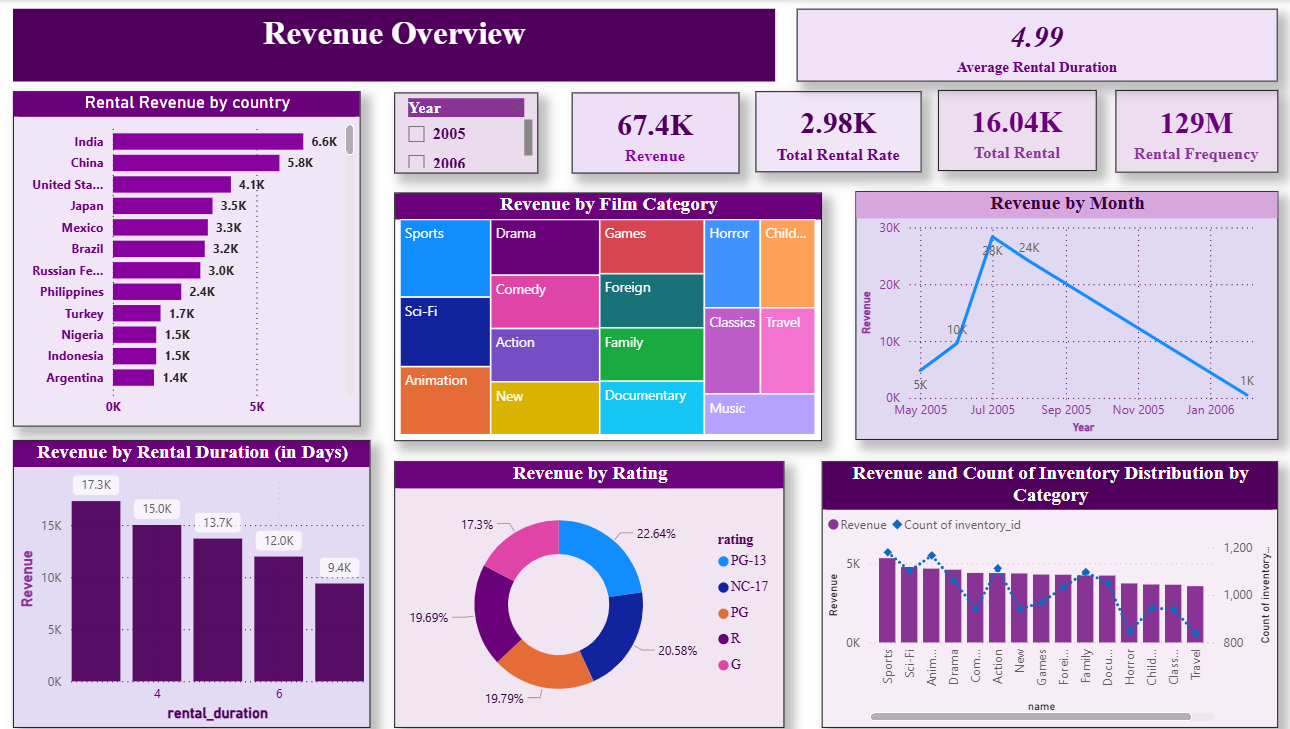

The dashboard page shown, as its layout file describes it:
{"tool":"powerbi","page":{"name":"Revenue Overview","canvas":[1280,720],"ordinal":2},"visuals":[{"type":"textbox","box":[14.7,8.6,745.9,70.9],"z":0},{"type":"barChart","fields":{"Category":["country.country"],"Y":["payment.Revenue"]},"box":[14.7,89.3,339.9,327.7],"z":1000},{"type":"card","fields":{"Values":["Avg(film.rental_duration)"]},"box":[781.4,8.6,470.8,70.9],"z":2000},{"type":"card","fields":{"Values":["payment.Revenue"]},"box":[561.3,90.5,163.9,79.5],"z":3000},{"type":"card","fields":{"Values":["Sum(film.rental_rate)"]},"box":[741,89.3,162.6,79.5],"z":4000},{"type":"card","fields":{"Values":["Sum(payment.payment_id)"]},"box":[1093.2,88,159,80.7],"z":5000},{"type":"card","fields":{"Values":["Count(payment.rental_id)"]},"box":[919.6,88,155.3,79.5],"z":6000},{"type":"treemap","fields":{"Values":["payment.Revenue"],"Group":["category.name"]},"box":[387.6,188.3,418.2,243.3],"z":7000},{"type":"lineChart","title":"Revenue by Month","fields":{"Y":["payment.Revenue"],"Category":["payment.payment_date.Variation.Date Hierarchy.Year","payment.payment_date.Variation.Date Hierarchy.Month"]},"box":[838.9,187.1,413.3,243.3],"z":8000},{"type":"lineStackedColumnComboChart","title":"Revenue by Rental Duration (in Days)","fields":{"Category":["film.rental_duration"],"Y":["payment.Revenue"]},"box":[14.7,430.4,349.7,281.3],"z":9000},{"type":"donutChart","title":"Revenue by Rating","fields":{"Y":["payment.Revenue"],"Category":["film.rating"]},"box":[387.6,451.2,381.5,260.5],"z":10000},{"type":"lineStackedColumnComboChart","title":"Revenue and Count of Inventory Distribution by Category","fields":{"Category":["category.name"],"Y":["payment.Revenue"],"Y2":["CountNonNull(rentat.inventory_id)"]},"box":[805.8,451.2,446.3,260.5],"z":11000},{"type":"slicer","fields":{"Values":["payment.payment_date.Variation.Date Hierarchy.Year"]},"box":[387.6,90.5,140.6,79.5],"z":12000}]}

Visuals, with their boxes in screenshot pixels (x1, y1, x2, y2), scaled from the page's 1280x720 canvas onto the 1290x729 screenshot:
textbox: [left=15, top=9, right=767, bottom=80]
barChart - country.country x payment.Revenue: [left=15, top=90, right=357, bottom=422]
card - Avg(film.rental_duration): [left=788, top=9, right=1262, bottom=80]
card - payment.Revenue: [left=566, top=92, right=731, bottom=172]
card - Sum(film.rental_rate): [left=747, top=90, right=911, bottom=171]
card - Sum(payment.payment_id): [left=1102, top=89, right=1262, bottom=171]
card - Count(payment.rental_id): [left=927, top=89, right=1083, bottom=170]
treemap - payment.Revenue x category.name: [left=391, top=191, right=812, bottom=437]
"Revenue by Month" lineChart: [left=845, top=189, right=1262, bottom=436]
"Revenue by Rental Duration (in Days)" lineStackedColumnComboChart: [left=15, top=436, right=367, bottom=721]
"Revenue by Rating" donutChart: [left=391, top=457, right=775, bottom=721]
"Revenue and Count of Inventory Distribution by Category" lineStackedColumnComboChart: [left=812, top=457, right=1262, bottom=721]
slicer - payment.payment_date.Variation.Date Hierarchy.Year: [left=391, top=92, right=532, bottom=172]
